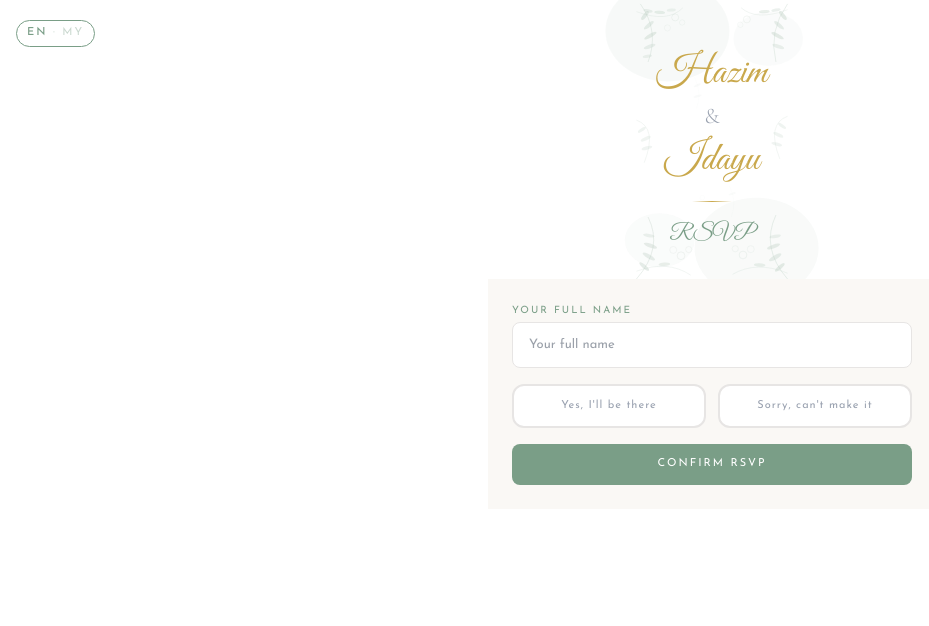
Test: RsvpPage › shows server error message on failed request
Type "Ahmad" into the field with placeholder "Your full name".
click(712, 345); type("Ahmad")  # box [512,322,912,368]
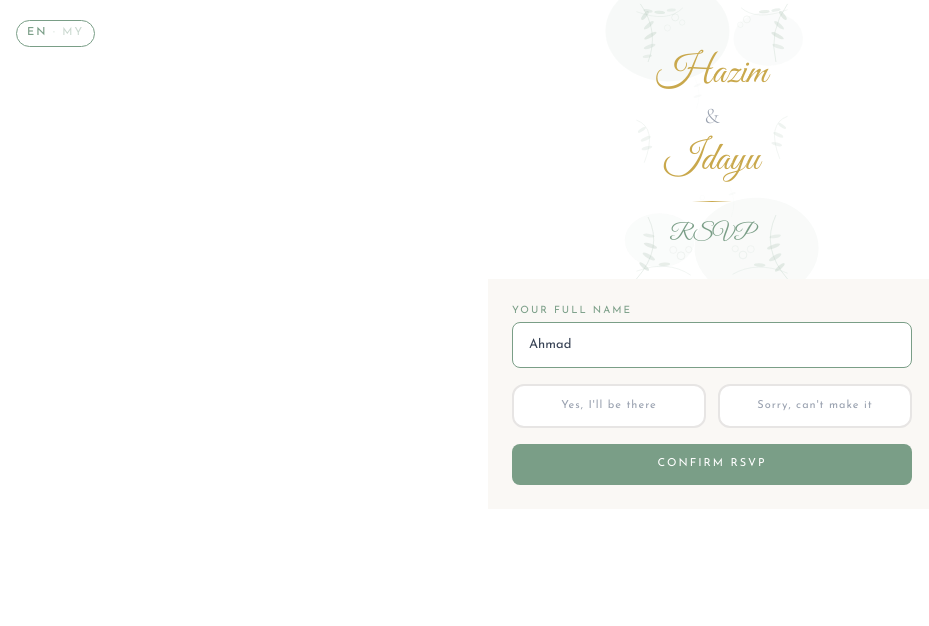
Click the button "Yes, I'll be there".
click(609, 406)  # box [512,384,706,428]
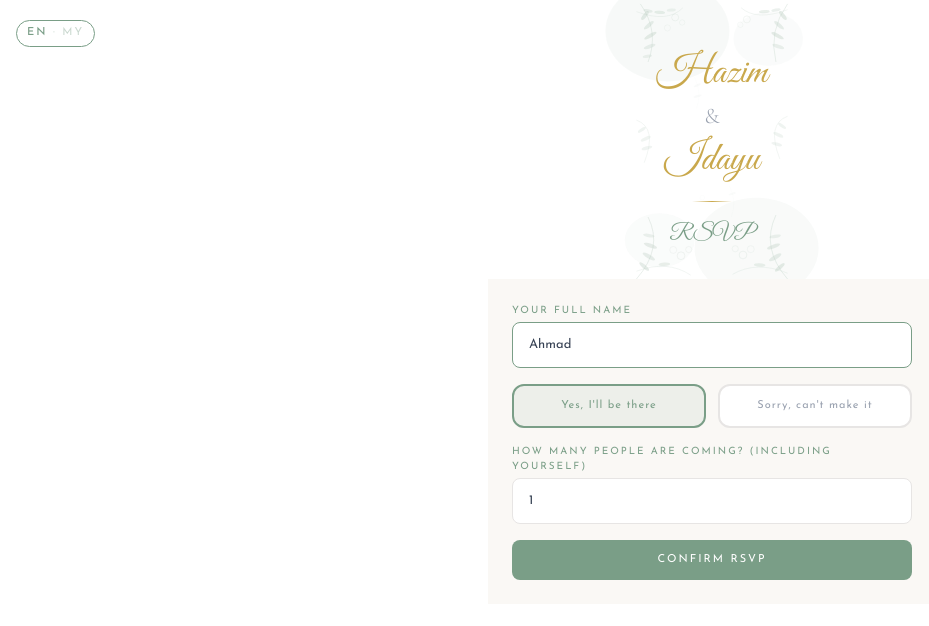
Click the button "Confirm RSVP".
click(712, 560)  # box [512,540,912,580]
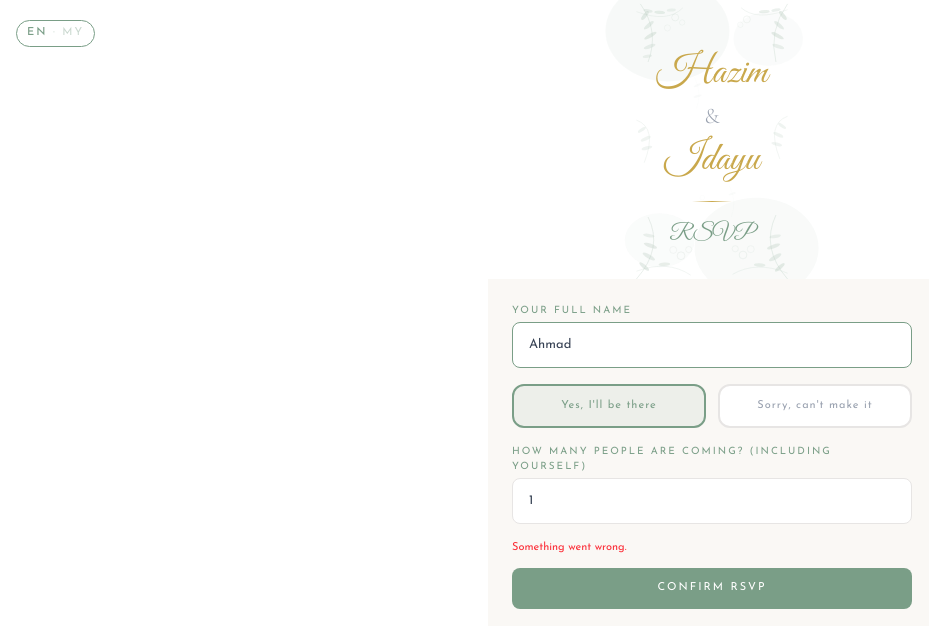
Check: the text "Something went wrong." is shown, box [512,542,626,552]
